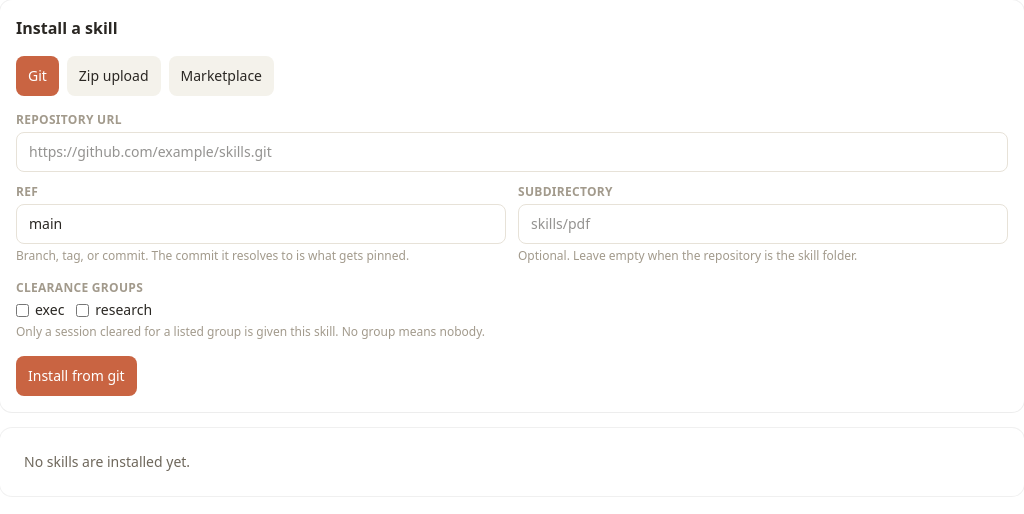
Test case: SkillsAdmin install payloads › tells the admin a marketplace tab has nothing behind it rather than showing an empty list
Click the button "Marketplace".
click(221, 76)  # box [168,56,274,96]
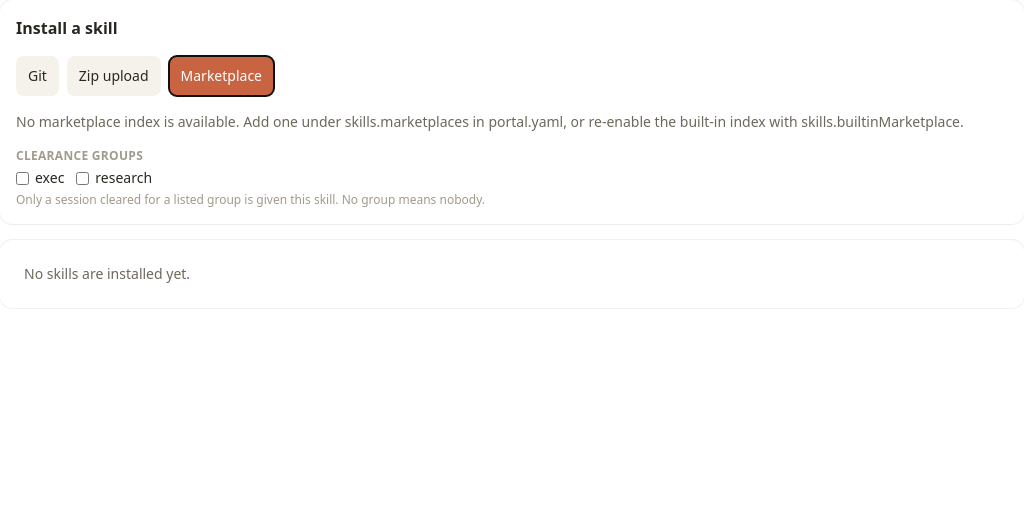
Now the text "No marketplace index is available" is shown, box [16,112,964,131]
